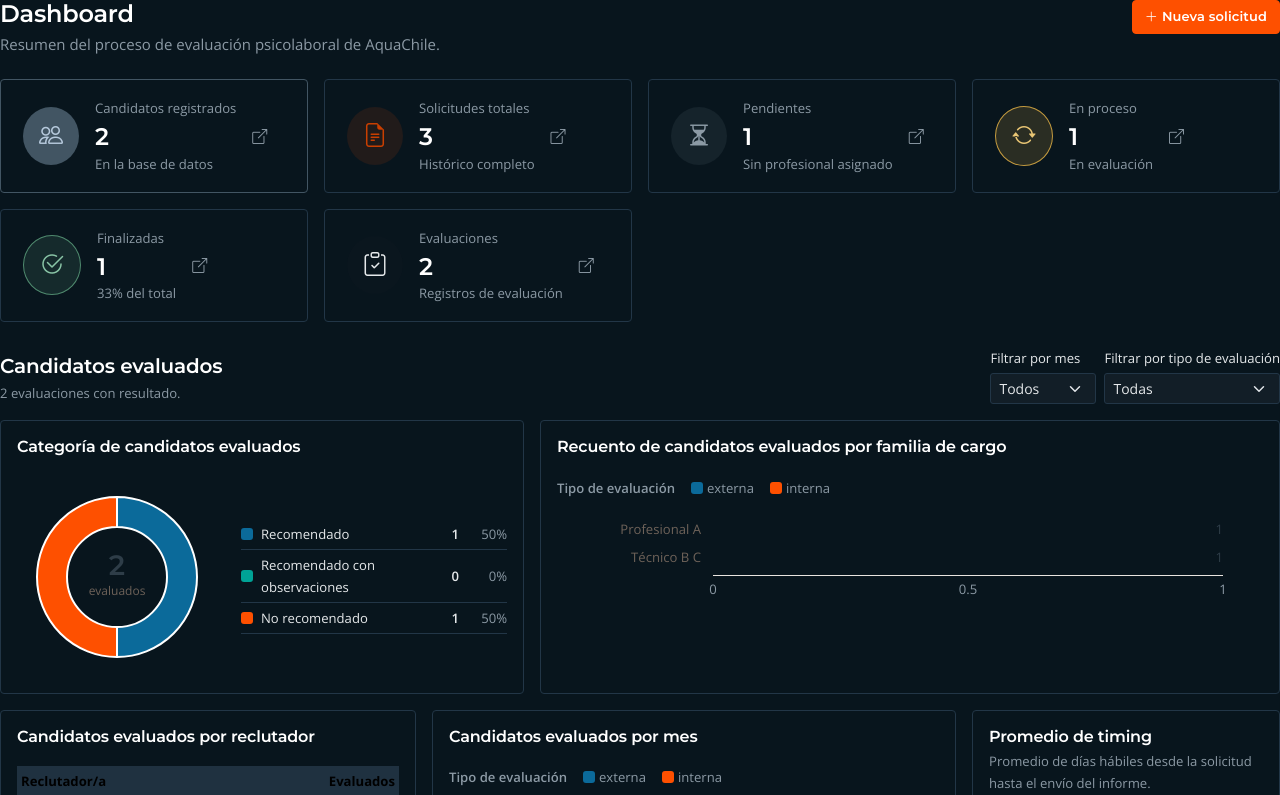
it: Dashboard › muestra los resultados y el tiempo de respuesta en el detalle de evaluaciones
The width and height of the screenshot is (1280, 795).
What coordinates should you click on to do the following:
click the button "Evaluaciones 2 Registros de evaluación"
I would click on:
 (375, 265)
Its box is x1=324 y1=209 x2=632 y2=322.
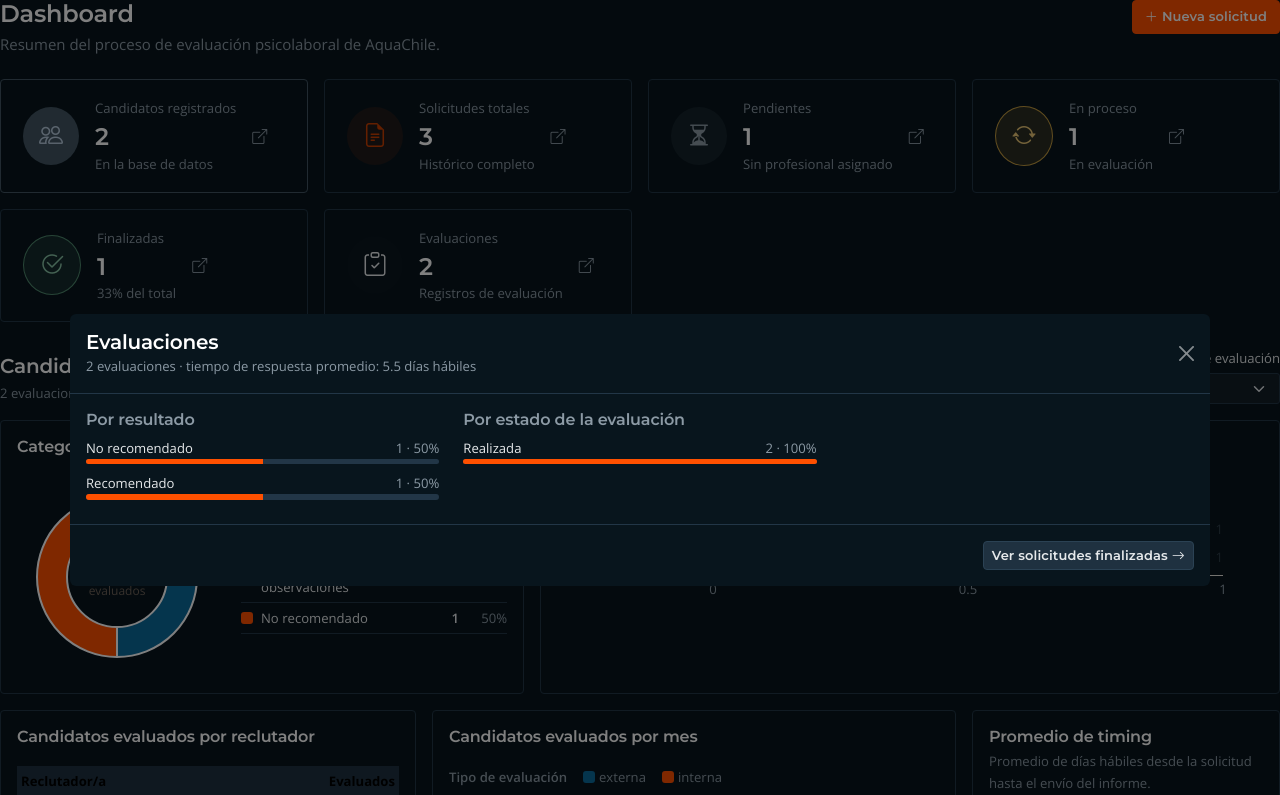
Expected: the text "promedio: 5.5 días hábiles" is shown, x1=86 y1=357 x2=476 y2=375
Expected: the text "Recomendado" is shown, x1=86 y1=472 x2=174 y2=494
Expected: the text "No recomendado" is shown, x1=86 y1=437 x2=193 y2=459
